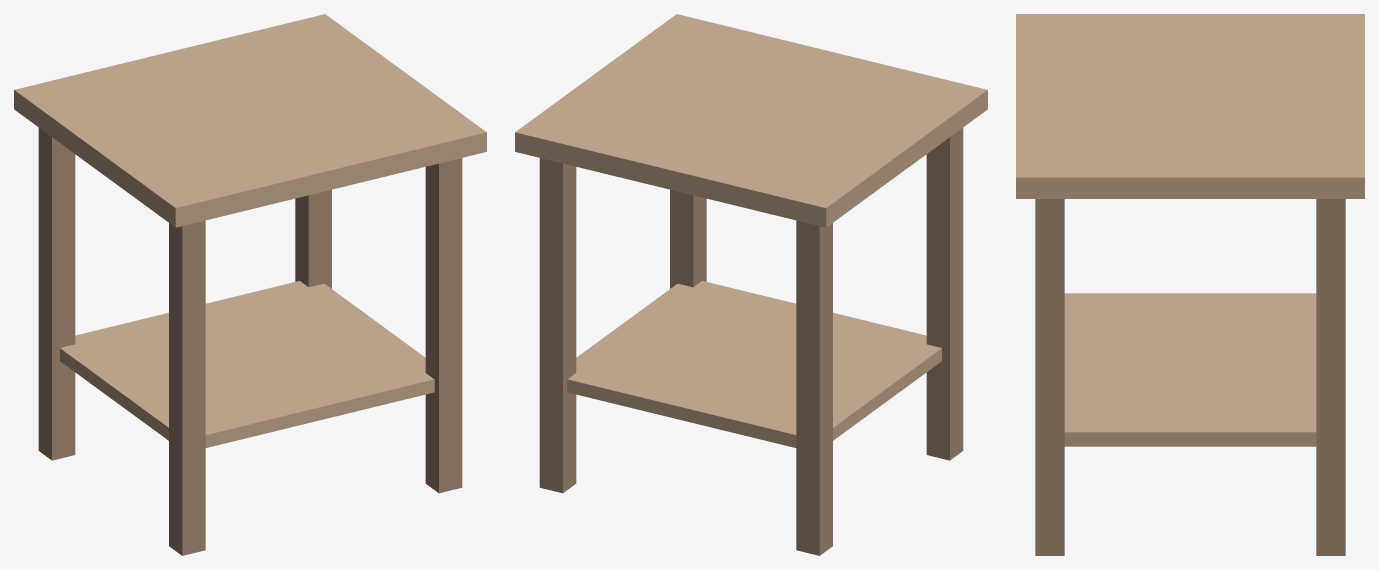
The model's file is side_table.glb.
3 views of the same model, side by side, from view 1: azimuth 30°, elevation 25°; view 2: azimuth 150°, elevation 25°; view 3: azimuth 270°, elevation 25° (orthographic). The views are drawn at different scales.
Parts seen in each view (by area): view 1: top, leg (×4), shelf; view 2: top, leg (×4), shelf; view 3: top, shelf, leg (×2).
Part boxes in pixels (x1,y1,x2,y2): top: [14, 14, 486, 227]; leg (×4): [38, 128, 462, 555]; shelf: [60, 281, 434, 447]; top: [515, 14, 987, 227]; leg (×4): [539, 128, 963, 555]; shelf: [567, 281, 941, 447]; top: [1016, 14, 1364, 198]; shelf: [1064, 293, 1316, 446]; leg (×2): [1035, 199, 1345, 555].
Size of the model in its own units: 0.508 by 0.5588 by 0.4572.
